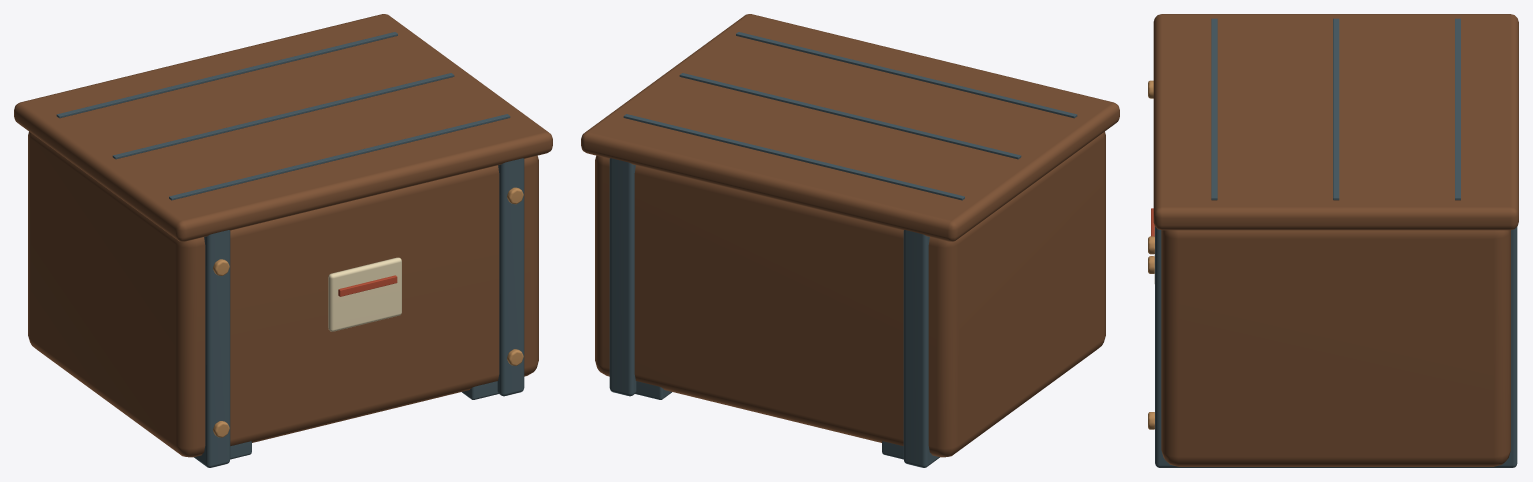
File: Cargo.fbx
The picture shows the model from 3 angles, left to right: view 1: azimuth 30°, elevation 25°; view 2: azimuth 150°, elevation 25°; view 3: azimuth 270°, elevation 25°; orthographic projection. The views are drawn at different scales.
Parts seen in each view (by area): view 1: Cargo; view 2: Cargo; view 3: Cargo.
Part boxes in pixels (x1,y1,x2,y2): Cargo: (14,14,552,467); Cargo: (581,14,1119,467); Cargo: (1148,14,1518,467).
Bounding box in the file's own units: 151 × 119 × 97.9.
